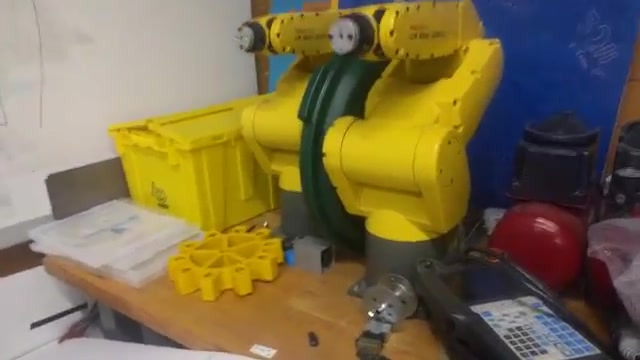gear: (160, 218, 283, 302)
